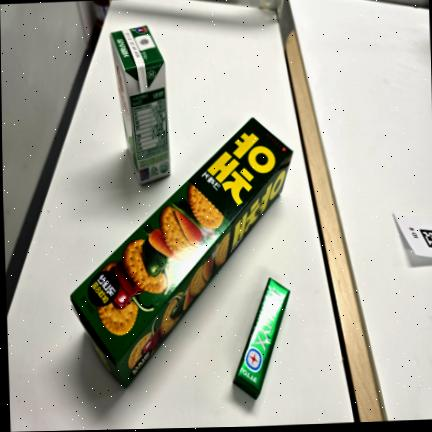cracker_vege: (70, 116, 292, 388)
gum_green: (233, 278, 289, 399)
milk_green: (109, 25, 170, 183)
